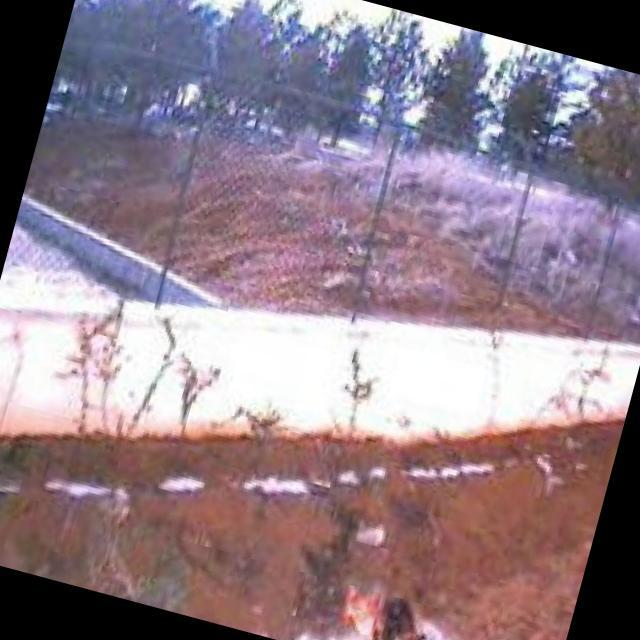Fire: (325, 570, 462, 640)
